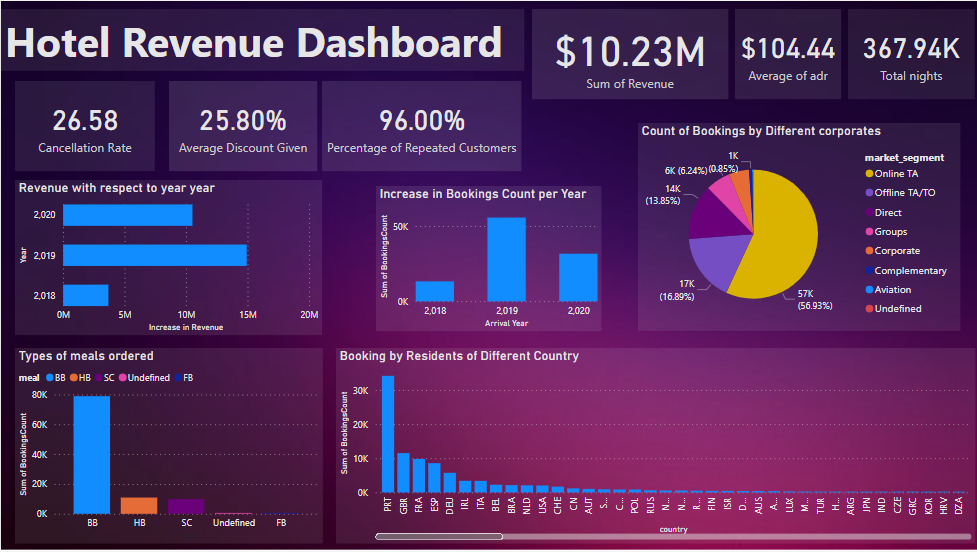

The page's visual inventory and layout, read from the dashboard file:
{"tool":"powerbi","page":{"name":"Page 1","canvas":[1280,720],"ordinal":0},"visuals":[{"type":"card","fields":{"Values":["Sum(Query1.Revenue)"]},"box":[695.1,10.5,256.6,117.8],"z":0},{"type":"card","fields":{"Values":["Avg(Query1.adr)"]},"box":[960.9,10.5,138.8,117.8],"z":1000},{"type":"card","fields":{"Values":["Query1.Total nights"]},"box":[1108.8,10.5,166.3,117.8],"z":2000},{"type":"card","fields":{"Values":["Avg(Query1.Discount)"]},"box":[220.3,105.1,194.4,118.1],"z":3000},{"type":"card","title":"Cancellation Rsate","fields":{"Values":["Sum(Query2.CancellationRate)"]},"box":[18.7,105.1,182.9,118.1],"z":4000},{"type":"barChart","title":"Revenue with respect to year year","fields":{"Category":["Query3.arrival_date_year"],"Y":["Sum(Query3.revenue)"]},"box":[18.7,234.7,401.8,203],"z":5000},{"type":"columnChart","title":"Increase in Bookings Count per Year","fields":{"Y":["Sum(Query4.BookingsCount)"],"Category":["Query4.arrival_date_year"]},"box":[491,241.9,295.2,190.1],"z":6000},{"type":"pieChart","title":"Count of  Bookings by Different corporates","fields":{"Category":["Query5.market_segment"],"Y":["Sum(Query5.BookingsCount)"],"Series":["Query5.market_segment"]},"box":[833.8,159.8,421.9,272.2],"z":7000},{"type":"card","fields":{"Values":["Max(Query6.Column)"]},"box":[420.5,105.1,260.6,118.1],"z":8000},{"type":"columnChart","title":"Types of meals ordered","fields":{"Category":["Query7.meal"],"Series":["Query7.meal"],"Y":["Sum(Query7.BookingsCount)"]},"box":[18.7,453.6,403.2,256.3],"z":9000},{"type":"lineClusteredColumnComboChart","title":"Booking by Residents of Different Country","fields":{"Category":["Query8.country"],"Y":["Sum(Query8.BookingsCount)"]},"box":[439.2,453.6,836.6,256.3],"z":10000},{"type":"textbox","box":[0,10.1,685.4,80.6],"z":10001}]}

Visuals, with their boxes in screenshot pixels (x1, y1, x2, y2), scaled from the page's 1280x720 canvas onto the 977x552 screenshot:
card - Sum(Query1.Revenue): x1=531, y1=8, x2=726, y2=98
card - Avg(Query1.adr): x1=733, y1=8, x2=839, y2=98
card - Query1.Total nights: x1=846, y1=8, x2=973, y2=98
card - Avg(Query1.Discount): x1=168, y1=81, x2=317, y2=171
"Cancellation Rsate" card: x1=14, y1=81, x2=154, y2=171
"Revenue with respect to year year" barChart: x1=14, y1=180, x2=321, y2=336
"Increase in Bookings Count per Year" columnChart: x1=375, y1=185, x2=600, y2=331
"Count of  Bookings by Different corporates" pieChart: x1=636, y1=123, x2=958, y2=331
card - Max(Query6.Column): x1=321, y1=81, x2=520, y2=171
"Types of meals ordered" columnChart: x1=14, y1=348, x2=322, y2=544
"Booking by Residents of Different Country" lineClusteredColumnComboChart: x1=335, y1=348, x2=974, y2=544
textbox: x1=0, y1=8, x2=523, y2=70
